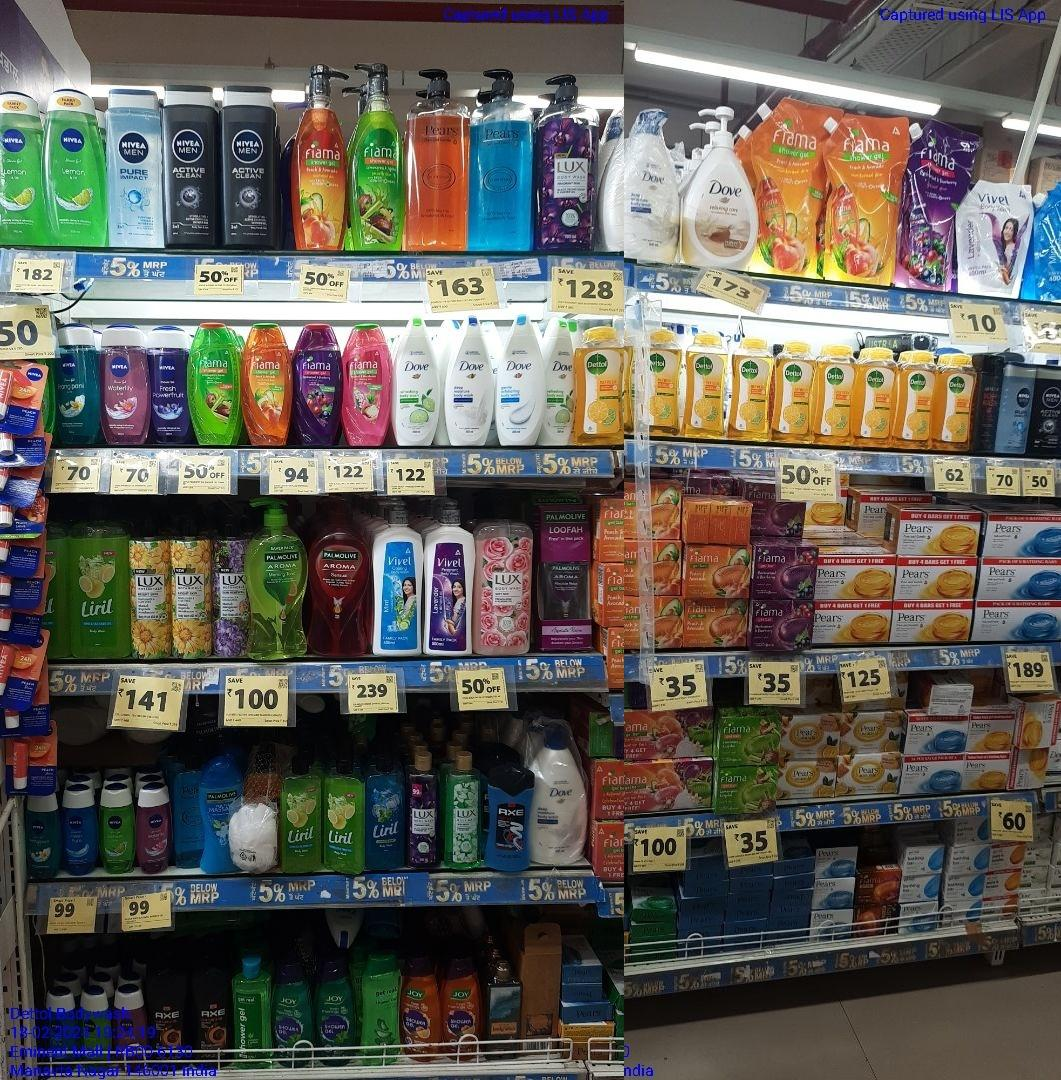Dettol_Bodywash_Refresh: (574, 326, 624, 448), (686, 334, 727, 440), (732, 338, 771, 441), (815, 343, 854, 445), (775, 342, 813, 444), (936, 353, 974, 450), (896, 352, 932, 450), (646, 329, 678, 439), (859, 347, 892, 448)
Dove_Deep_Moisture_Body_Wash_250ML: (445, 316, 495, 446)
Dove_Gentle_Exfoliating_Body_Wash_250ML: (497, 314, 546, 445)
Dove_Refreshing_Body_Wash_250ML: (393, 319, 441, 447)
Fiama_Shower_Gel_Lemongrass_and_Jojoba_250ML: (193, 320, 238, 445)
Fiama_Shower_Gel_Patchouli_and_Macadamia_250ML: (343, 323, 392, 446)
Fiama_Shower_Gel_Peach_and_Avocado_250ML: (240, 321, 292, 446)
Joy_Shower_Gel_Mandarin_and_Lemongrass_250ML: (439, 958, 482, 1061), (400, 961, 439, 1062)
Joy_Shower_Gel_Mint_and_Eucalyptus_250ML: (270, 968, 314, 1069), (315, 963, 356, 1070)
Liril_Cooling_Mint_Body_Wash_250ML: (366, 758, 408, 871)
Liril_Lime_and_Tea_Tree_Oil_Body_Wash_250ML: (280, 760, 325, 871), (326, 764, 364, 876)
Lux_Black_Orchid_Scent_and_Juniper_Oil_Body_Wash_245ML: (408, 748, 440, 868)
Lux_Body_Wash_Skin_Detox_Freesia_Scent_and_Alove_Vera_245ML: (443, 751, 480, 870)
Nivea_Shower_Gel_Frangipani_and_Oil_250ML: (56, 323, 100, 445), (26, 793, 60, 877)
Nivea_Shower_Gel_Fresh_Powerfruit_250ML: (151, 319, 192, 445)
Nivea_Shower_Gel_Lemon_and_Oil_250ML: (51, 91, 108, 246), (0, 90, 49, 244), (95, 784, 136, 876)
Nivea_Shower_Gel_Waterlily_and_Oil_250ML: (102, 321, 151, 445), (137, 784, 172, 872)
